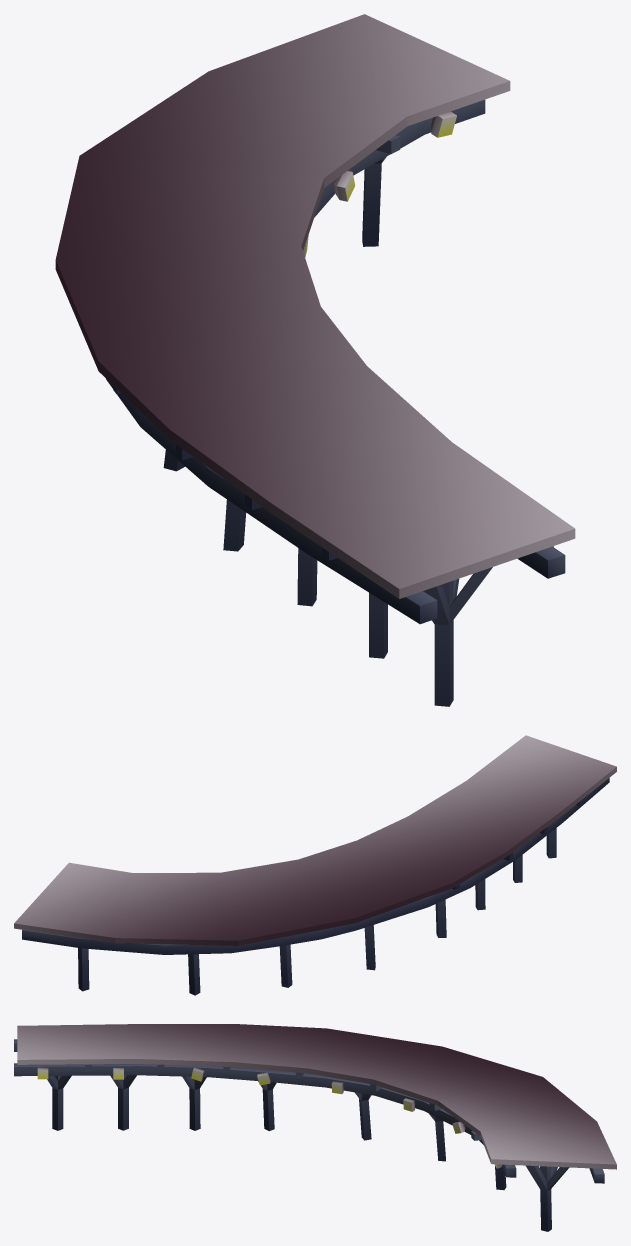
The picture shows the model from 3 angles, top to bottom: view 1: azimuth 30°, elevation 25°; view 2: azimuth 150°, elevation 25°; view 3: azimuth 270°, elevation 25°; orthographic projection. The views are drawn at different scales.
Visible parts, largest first — view 1: Roof; view 2: Roof; view 3: Roof.
Boxes of the visible parts, x1=… form: Roof: x1=55, y1=14, x2=575, y2=706; Roof: x1=14, y1=735, x2=616, y2=995; Roof: x1=14, y1=1024, x2=616, y2=1231.
Bounding box in the file's own units: 3.57 × 1.06 × 6.29.
1 material, 1 textured.
